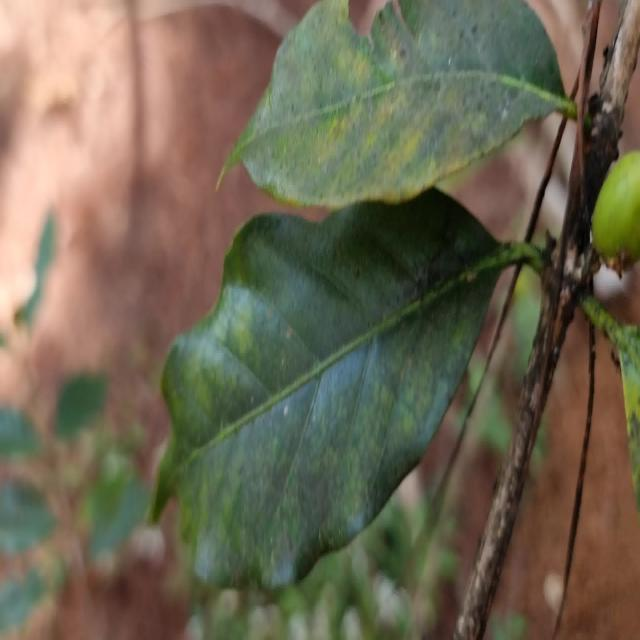leaves: (85, 116, 532, 640), (225, 0, 566, 206)
